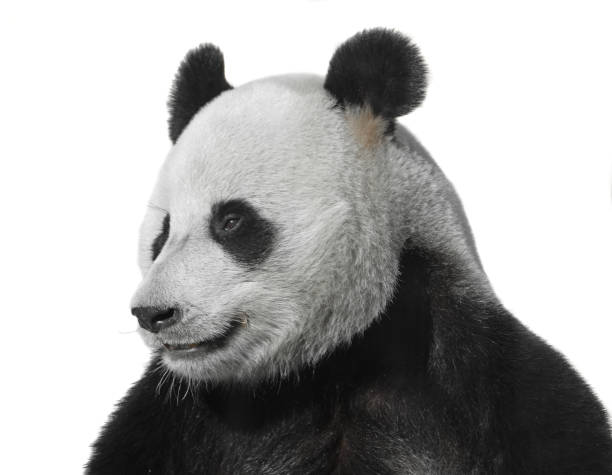panda: (110, 19, 470, 397)
